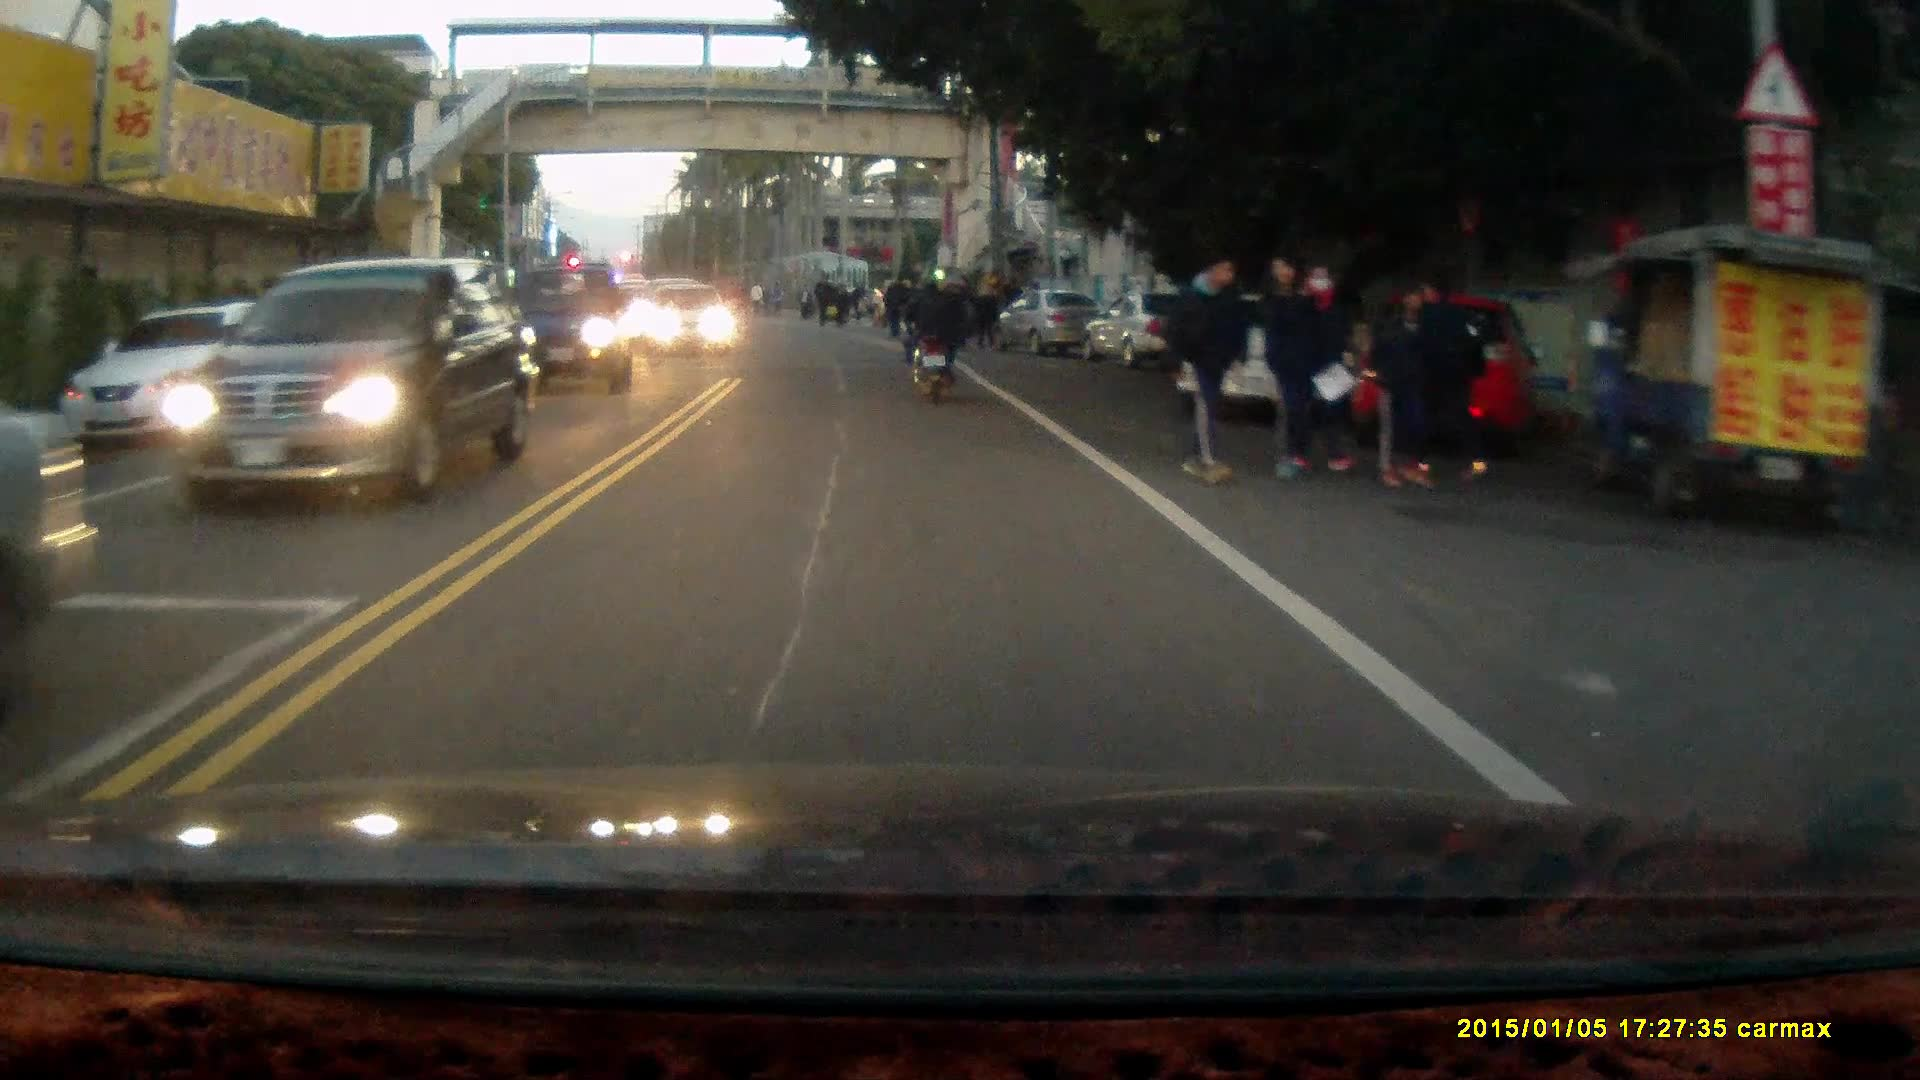pedestrian: (1164, 244, 1250, 487), (1369, 282, 1451, 492), (1412, 272, 1490, 492), (1257, 250, 1329, 486), (1283, 256, 1347, 470), (952, 270, 981, 354), (972, 282, 1001, 349)
rider: (893, 269, 962, 404)
vehicle: (168, 255, 541, 514), (1320, 288, 1536, 460), (1170, 284, 1390, 427), (1, 410, 103, 634), (489, 268, 636, 397), (1084, 289, 1203, 369), (993, 291, 1108, 358), (648, 286, 741, 360)
